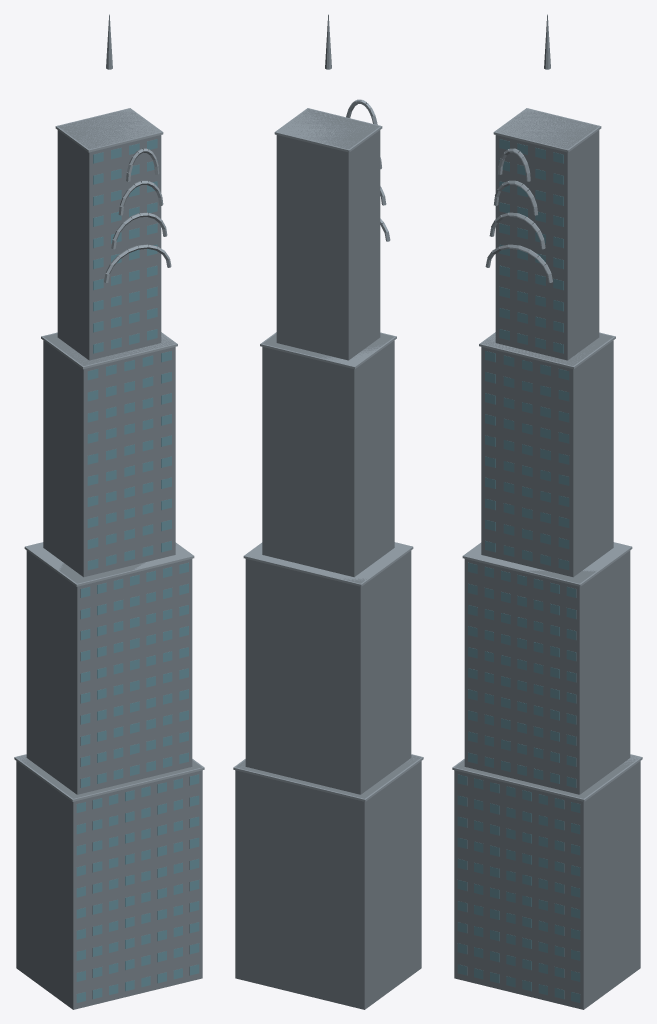
3 renders of one model, left to right at view 1: azimuth 30°, elevation 25°; view 2: azimuth 150°, elevation 25°; view 3: azimuth 330°, elevation 25°, orthographic.
Visible parts, largest first — view 1: worldgen; view 2: worldgen; view 3: worldgen.
Part boxes in pixels (box(x1,y1,x2,y2)): worldgen: box(14, 14, 204, 1009); worldgen: box(233, 14, 423, 1009); worldgen: box(452, 14, 642, 1009).
Bounding box in the file's own units: 45.99 × 319 × 38.28.
